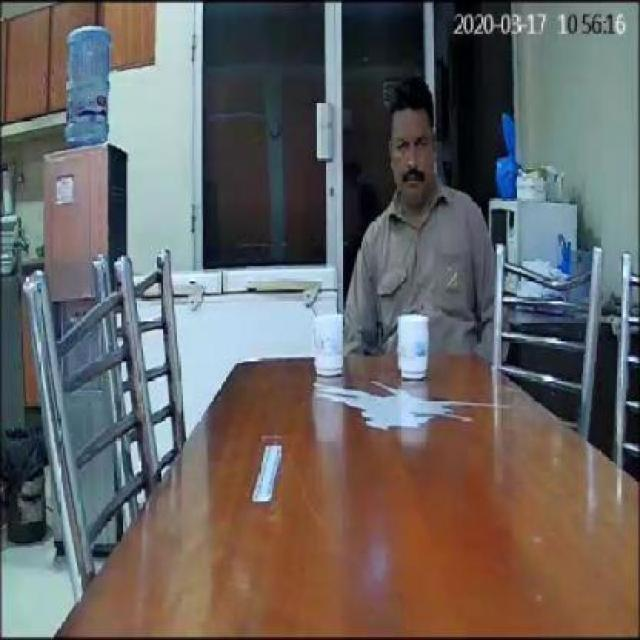spillage: (319, 375, 471, 431)
